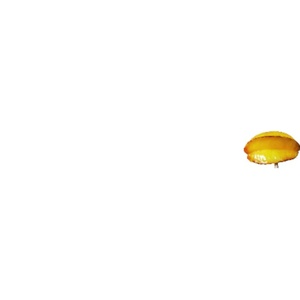carambola: (244, 132, 300, 168)
